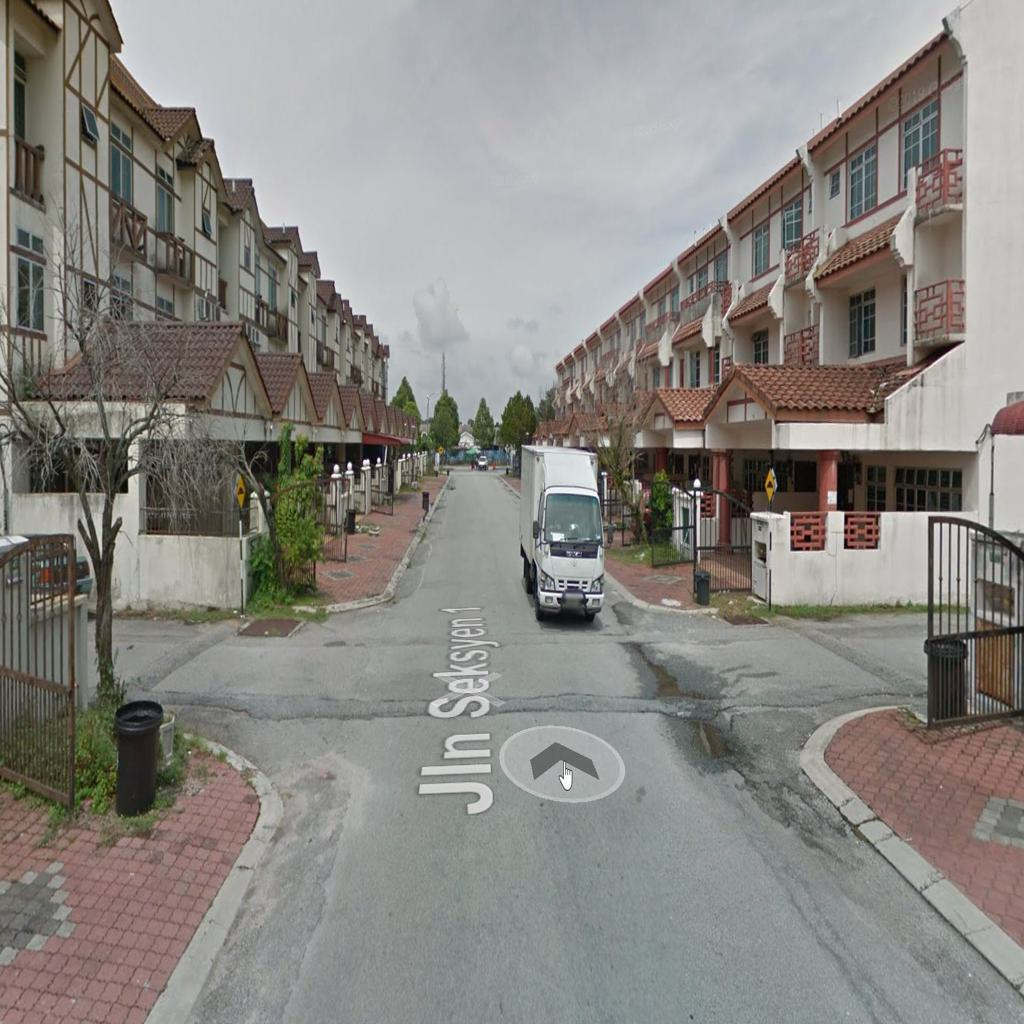Junction: (78, 571, 358, 785), (634, 583, 949, 760)
